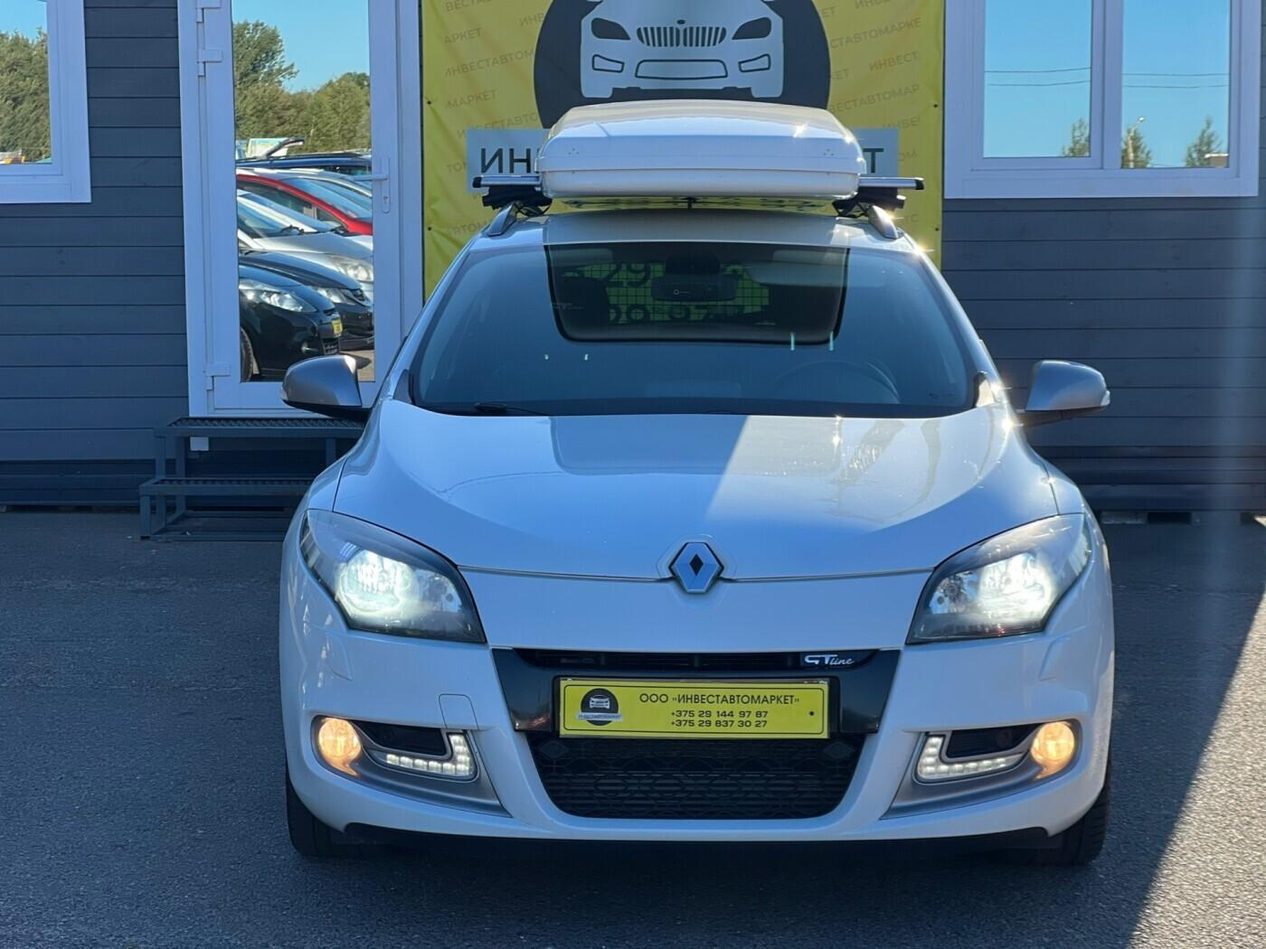Megane_2012-2014: (252, 196, 1136, 884)
